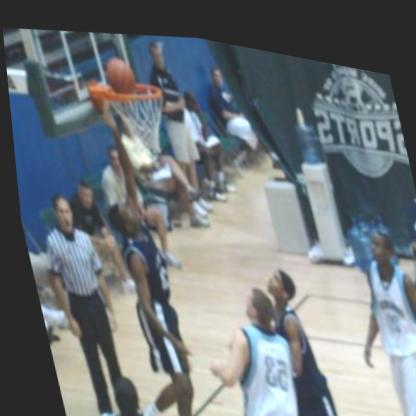basketball: (100, 47, 137, 93)
rim: (99, 65, 164, 108)
